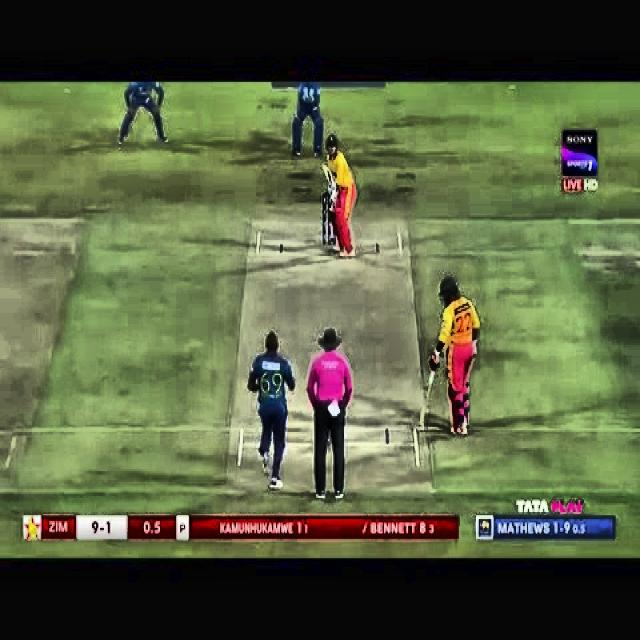Left-stump: (322, 204, 325, 245)
Middle-stump: (328, 211, 332, 245)
Right-stump: (333, 232, 336, 245)
